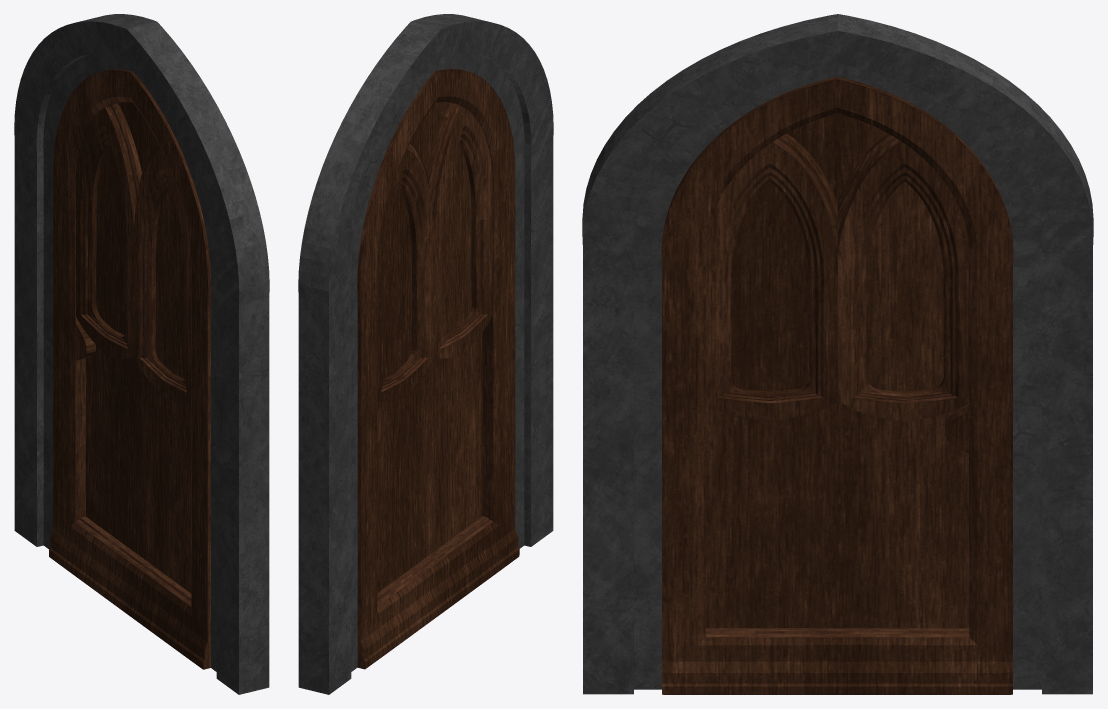
Rendered from f_door_04.fbx.
3 views of the same model, side by side, from view 1: azimuth 30°, elevation 25°; view 2: azimuth 150°, elevation 25°; view 3: azimuth 270°, elevation 25° (orthographic). The views are drawn at different scales.
Parts seen in each view (by area): view 1: Plane.007; view 2: Plane.007; view 3: Plane.007.
Boxes of the visible parts, box(x1,y1,x2,y2) form: Plane.007: box(14, 14, 269, 694); Plane.007: box(298, 14, 553, 694); Plane.007: box(582, 14, 1093, 694).
Size of the model in its own units: 6.24 by 106 by 74.28.
